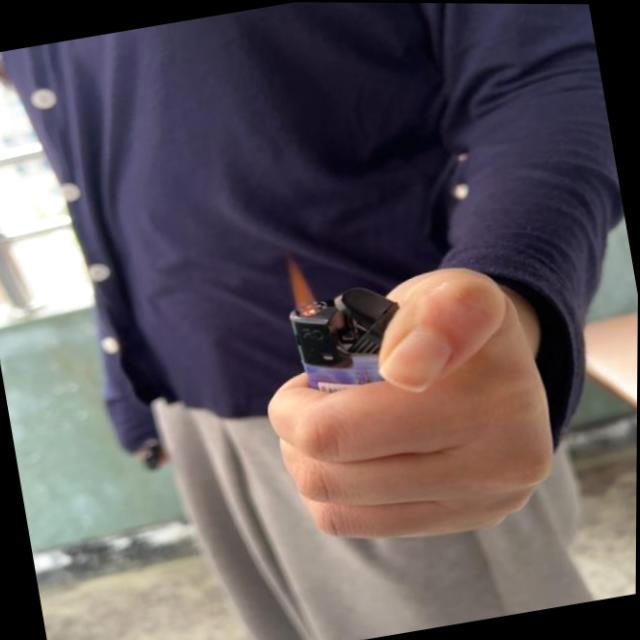fire: (284, 252, 320, 321)
